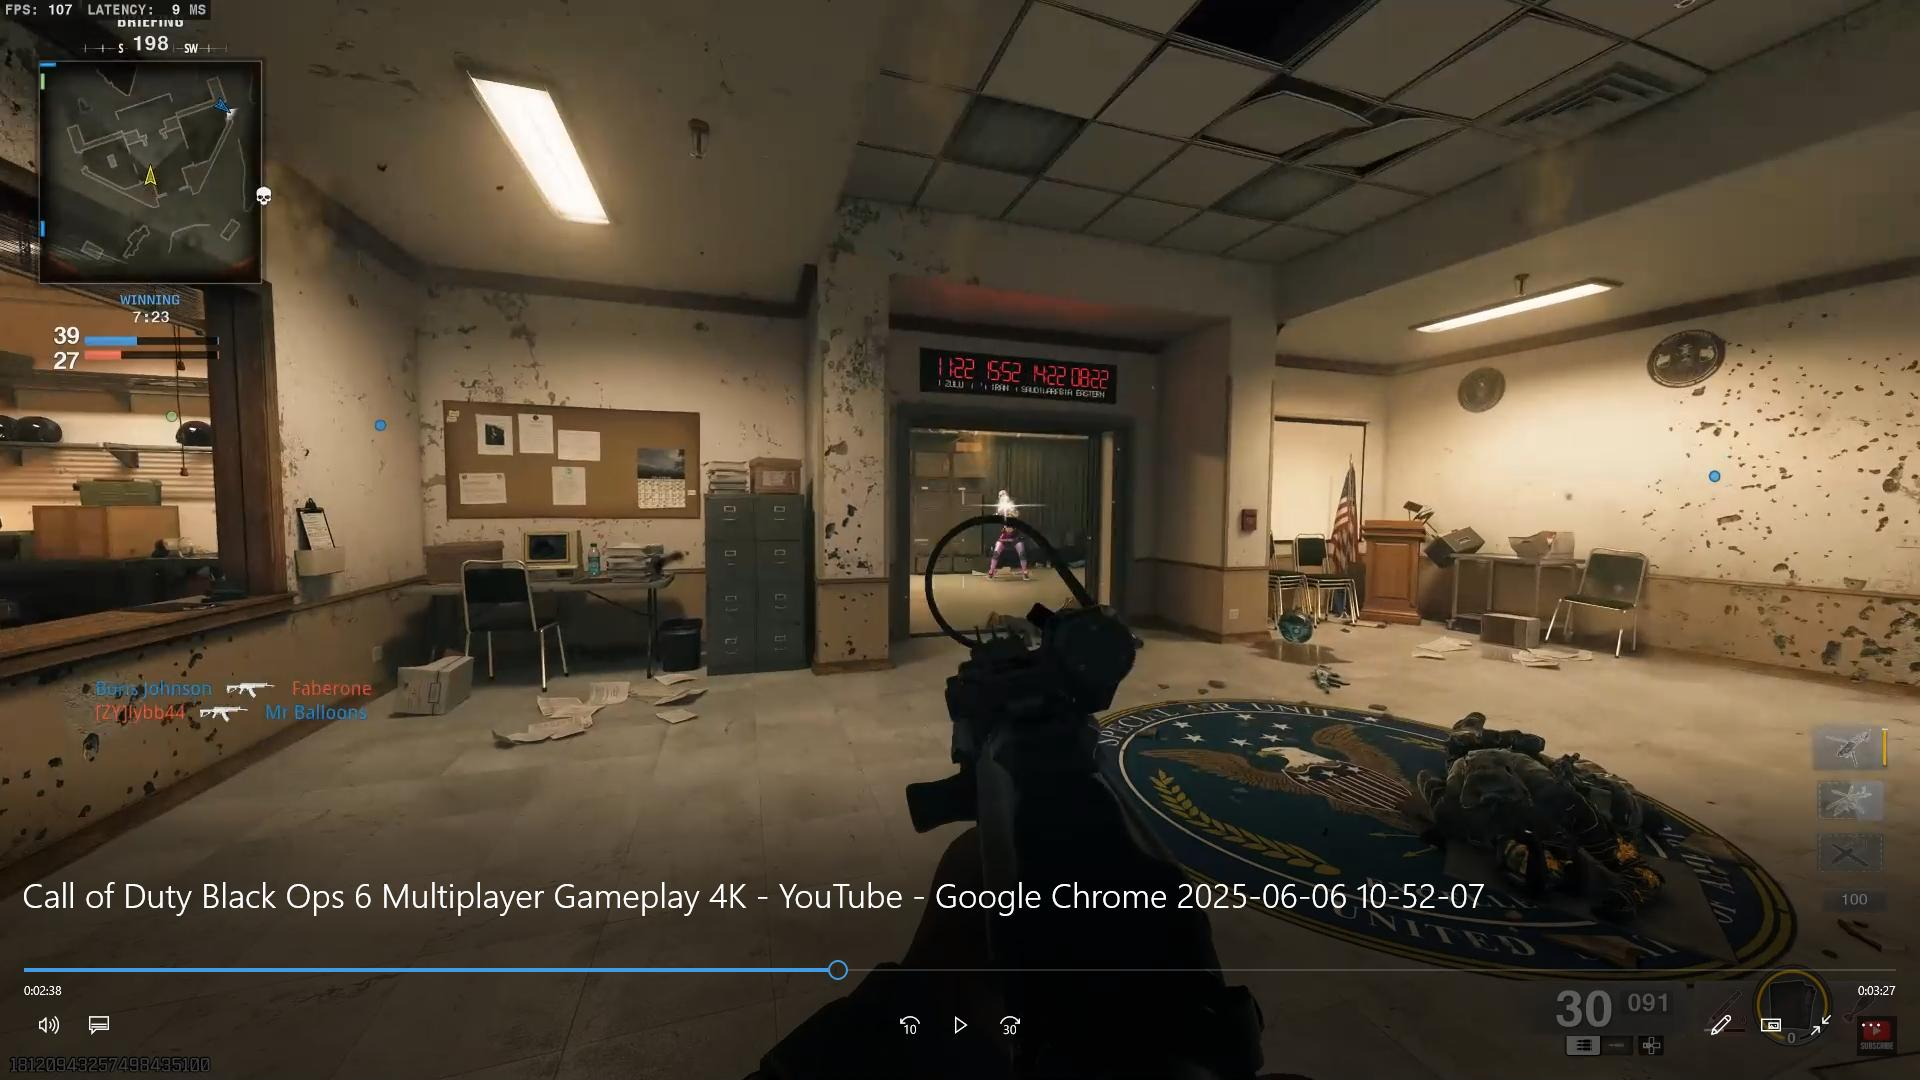Enemy: (982, 477, 1030, 529)
